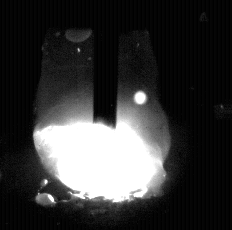arame: (94, 0, 118, 129)
poca: (33, 0, 172, 230)
